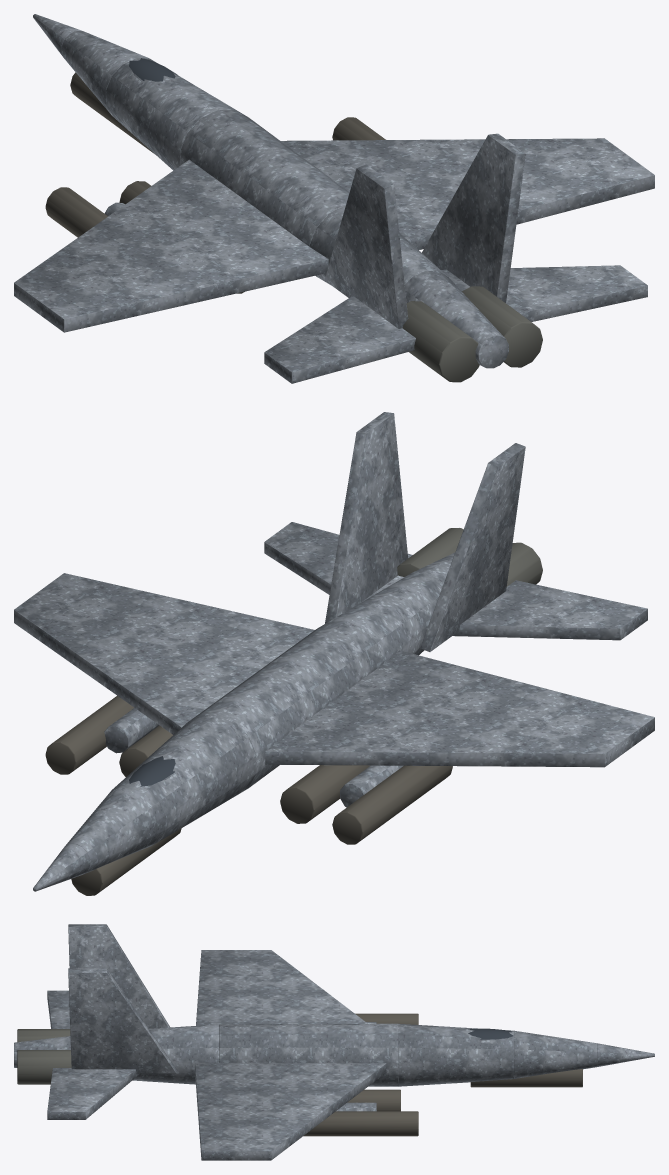
Rendered from ewa_e2_us_electronic_LOD0.glb.
3 views of the same model, one above another, from view 1: azimuth 30°, elevation 25°; view 2: azimuth 150°, elevation 25°; view 3: azimuth 270°, elevation 25° (orthographic). The views are drawn at different scales.
Parts seen in each view (by area): view 1: ewa_e2_us_electronic_LOD0_body, ewa_e2_us_electronic_LOD0_gun, ewa_e2_us_electronic_LOD0_deck, ewa_e2_us_electronic_LOD0_glass; view 2: ewa_e2_us_electronic_LOD0_body, ewa_e2_us_electronic_LOD0_deck, ewa_e2_us_electronic_LOD0_gun, ewa_e2_us_electronic_LOD0_glass; view 3: ewa_e2_us_electronic_LOD0_body, ewa_e2_us_electronic_LOD0_deck, ewa_e2_us_electronic_LOD0_gun, ewa_e2_us_electronic_LOD0_glass.
Boxes of the visible parts, <box> form: ewa_e2_us_electronic_LOD0_body: <box>14,14,654,383</box>; ewa_e2_us_electronic_LOD0_gun: <box>402,286,542,382</box>; ewa_e2_us_electronic_LOD0_deck: <box>45,72,385,293</box>; ewa_e2_us_electronic_LOD0_glass: <box>129,58,175,81</box>; ewa_e2_us_electronic_LOD0_body: <box>14,412,654,891</box>; ewa_e2_us_electronic_LOD0_deck: <box>45,695,452,895</box>; ewa_e2_us_electronic_LOD0_gun: <box>397,528,542,586</box>; ewa_e2_us_electronic_LOD0_glass: <box>129,756,175,786</box>; ewa_e2_us_electronic_LOD0_body: <box>14,924,654,1160</box>; ewa_e2_us_electronic_LOD0_deck: <box>303,1013,582,1136</box>; ewa_e2_us_electronic_LOD0_gun: <box>17,1029,71,1084</box>; ewa_e2_us_electronic_LOD0_glass: <box>468,1028,513,1039</box>.
Bounding box in the file's own units: 13.6 × 4.44 × 18.3.
4 materials, 1 textured.
